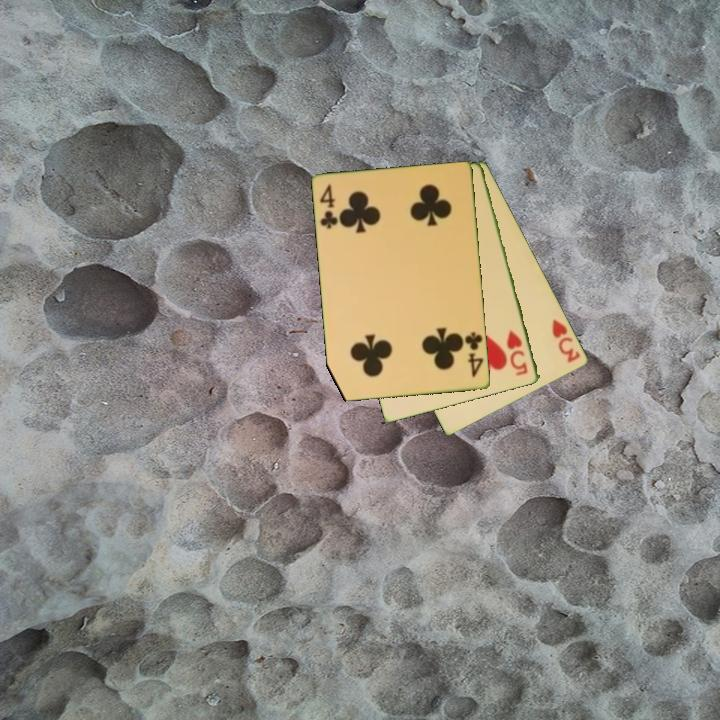3h: (549, 316, 584, 366)
4c: (462, 329, 486, 380), (317, 181, 341, 232)
5h: (503, 327, 531, 379)
